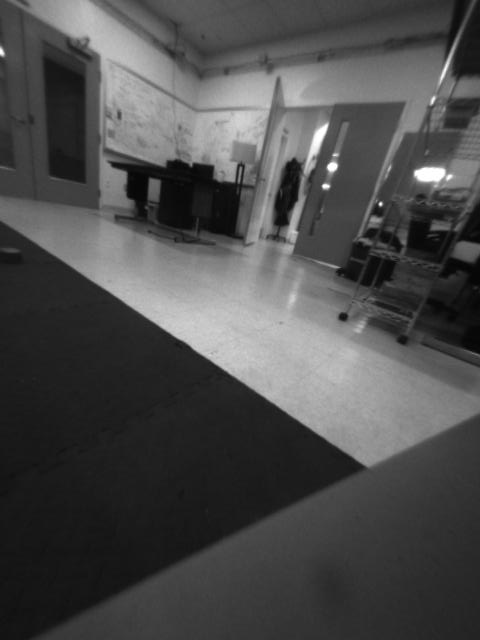dogtoy: (3, 236, 29, 271)
